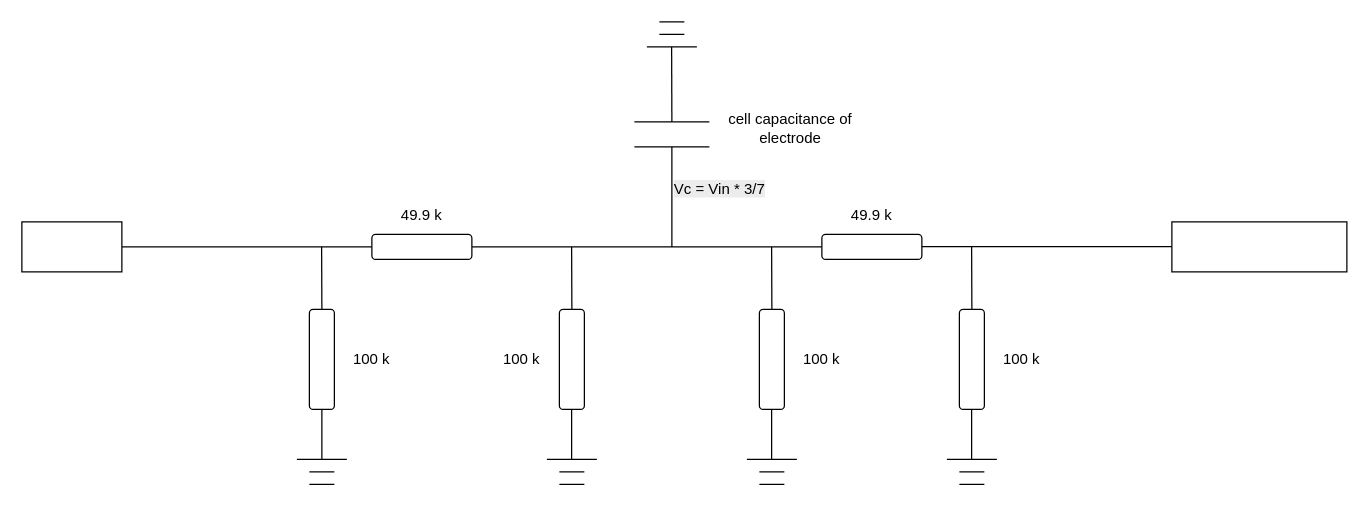
Some shapes in this 1369 by 508 pixel diagram are drawn without their labels. Here are the shapes that lost their labels. From the top down, the centre of each, then its label:
At point 71,246: "Signal input Vin".
At point 1259,246: "Signal output Vout = Vc * 2/3 = Vin *2/7".
